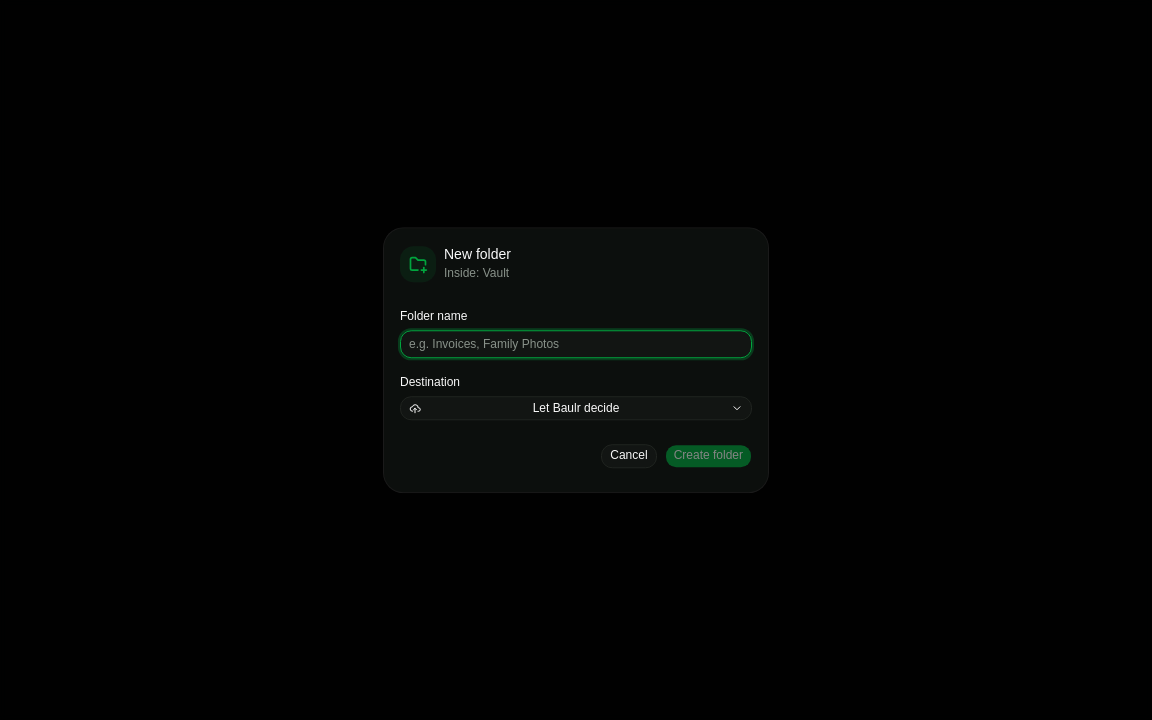
Vault Navigation & Media Components › CreateFolderModal › displays error and prevents submission when folder name already exists in current directory
Note: Enter duplicate name (case-insensitive)
In the field with placeholder "e.g. Invoices, Family Photos": {"x": 576, "y": 344} 400,330 -> 752,358, type "projects"
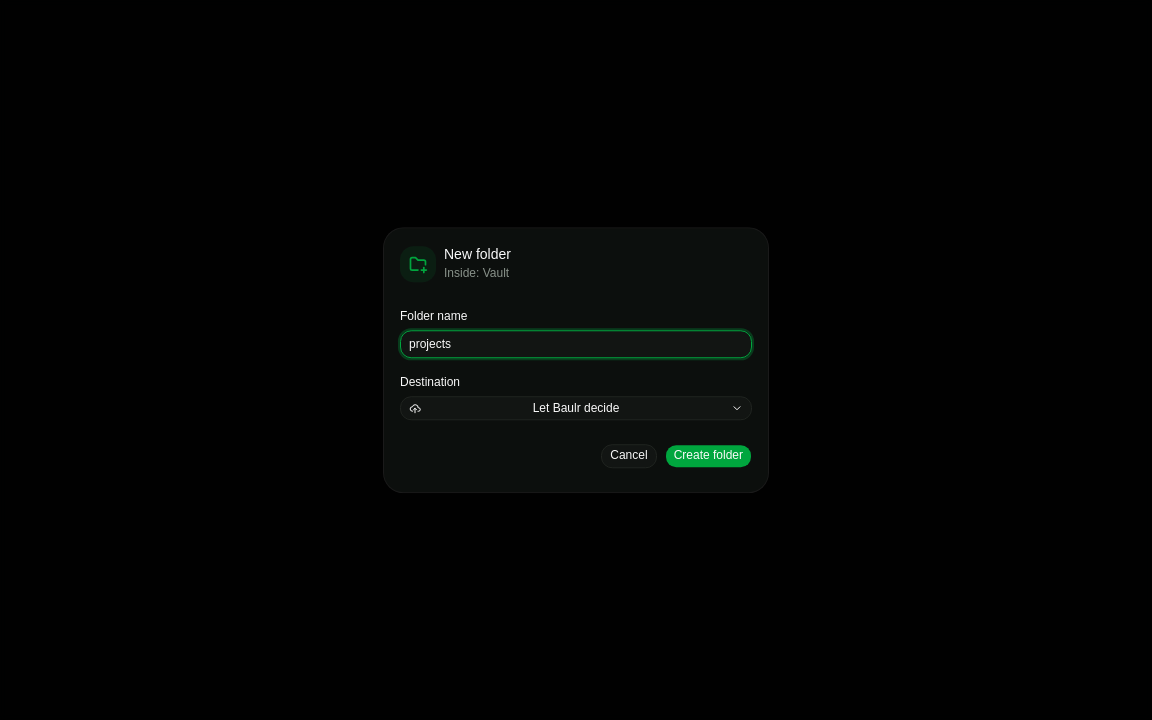
Click the button "Create folder": {"x": 708, "y": 456} 665,444 -> 752,468
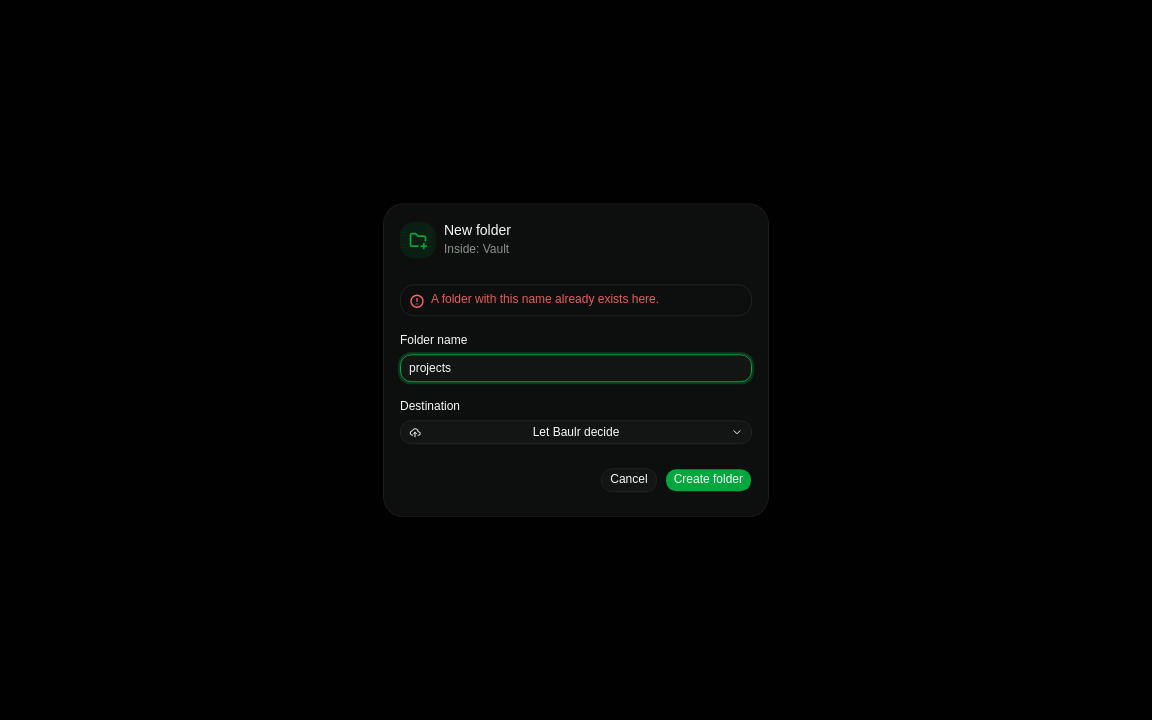
Expected: the text "A folder with this name already exists here." is shown, 431,292 -> 659,306
